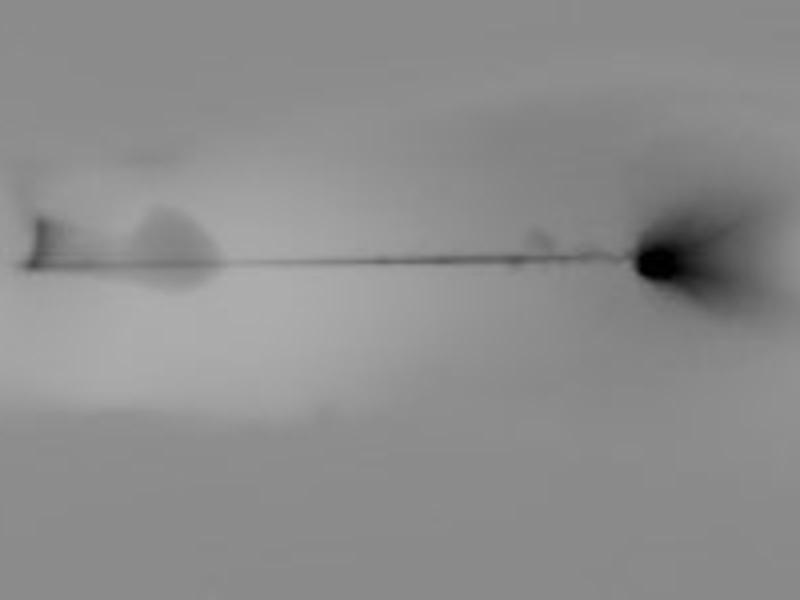defect: (126, 208, 222, 289), (633, 235, 688, 289)
